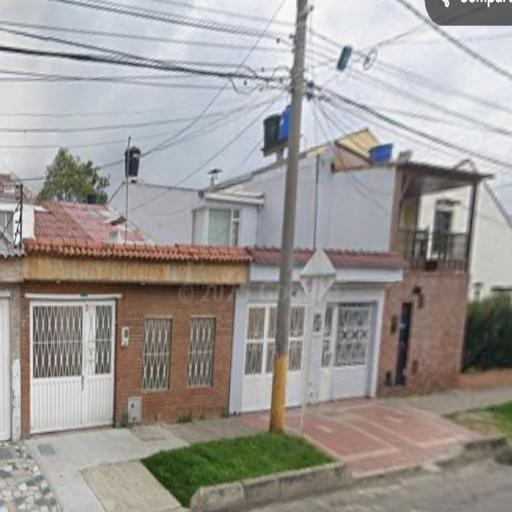poste: (267, 4, 309, 436)
